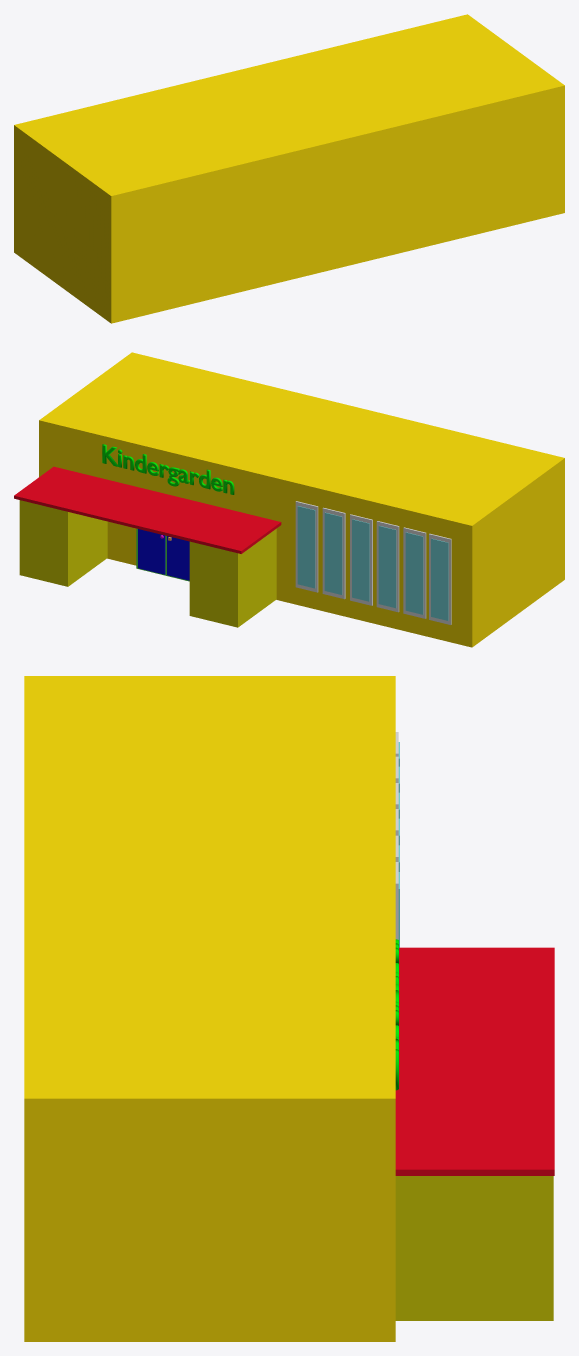
Rendered from kindergarten.fbx.
3 renders of one model, top to bottom at view 1: azimuth 30°, elevation 25°; view 2: azimuth 150°, elevation 25°; view 3: azimuth 270°, elevation 25°, orthographic. The views are drawn at different scales.
Visible parts, largest first — view 1: Cube.011; view 2: Cube.011, Text; view 3: Cube.011.
Part boxes in pixels (x1,y1,x2,y2): Cube.011: (14,14,564,323); Cube.011: (14,352,564,647); Text: (102,444,234,494); Cube.011: (24,676,554,1341).
Bounding box in the file's own units: 1788 × 487 × 948.
